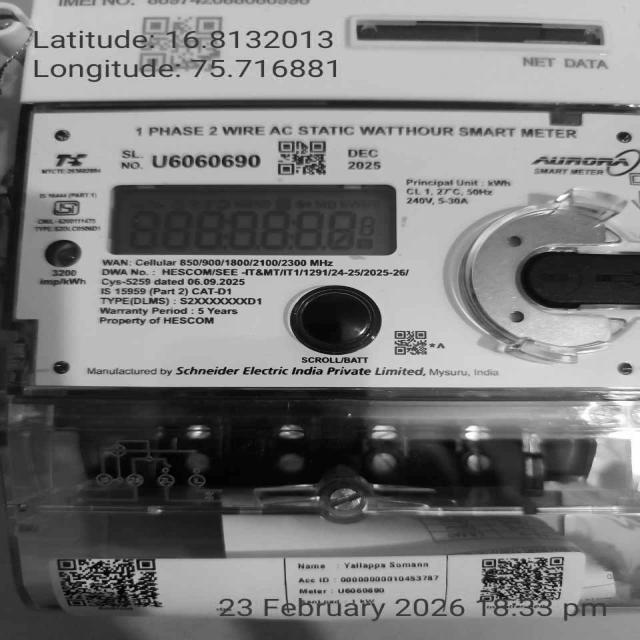meter: (24, 0, 639, 391)
